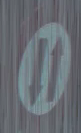Two way: (8, 14, 73, 115)
